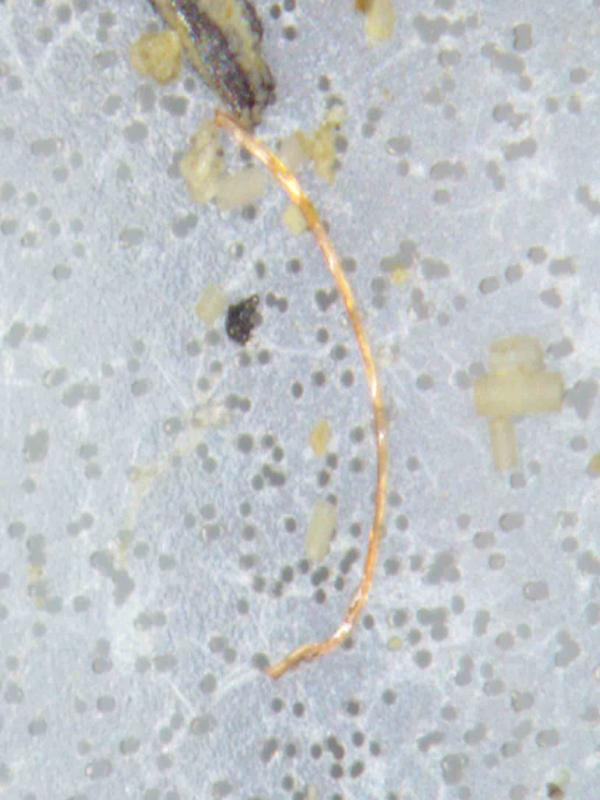microplastic: (114, 0, 392, 681), (123, 0, 278, 131)
